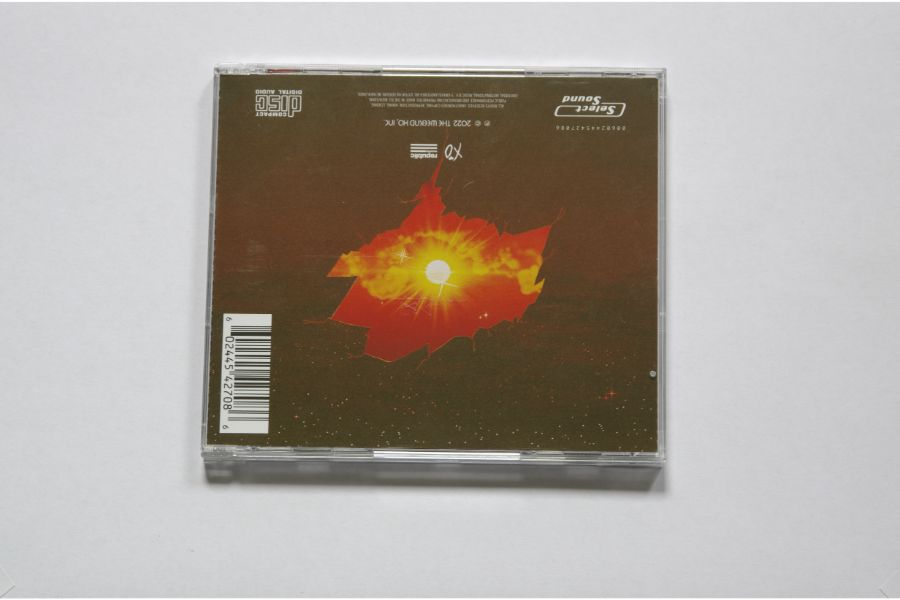album: (197, 57, 669, 470)
